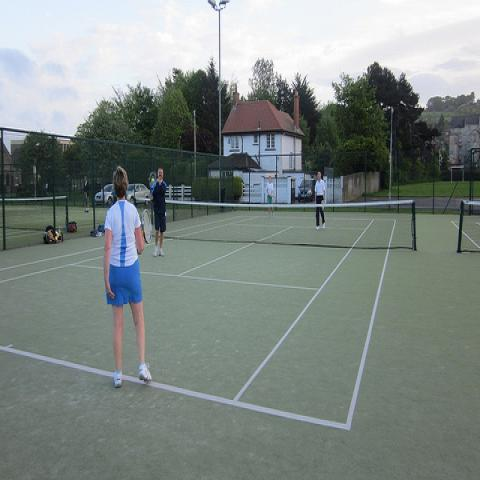car: (126, 184, 151, 205), (95, 183, 113, 207), (298, 179, 316, 203)
